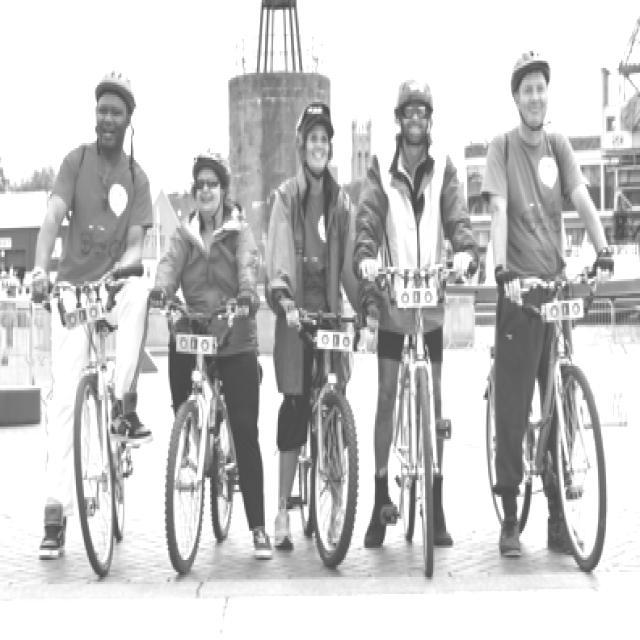Helmet: (88, 62, 144, 146), (186, 145, 234, 223), (510, 44, 554, 128), (393, 70, 438, 143), (294, 102, 336, 177)
